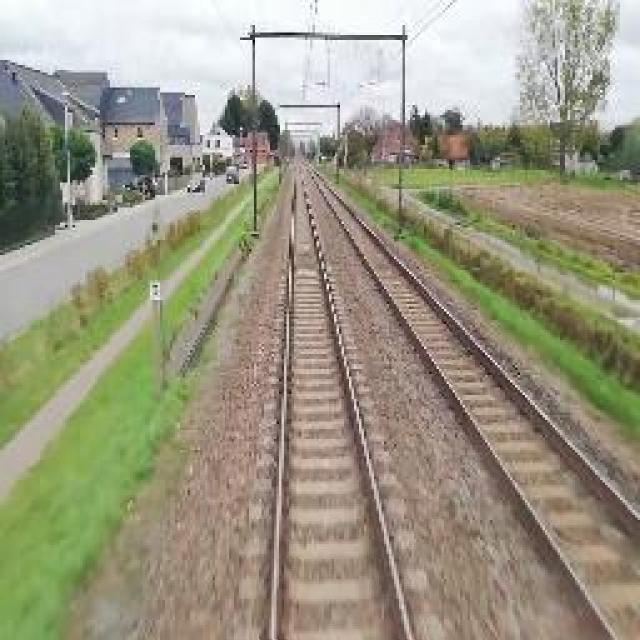rail: (228, 158, 452, 640)
